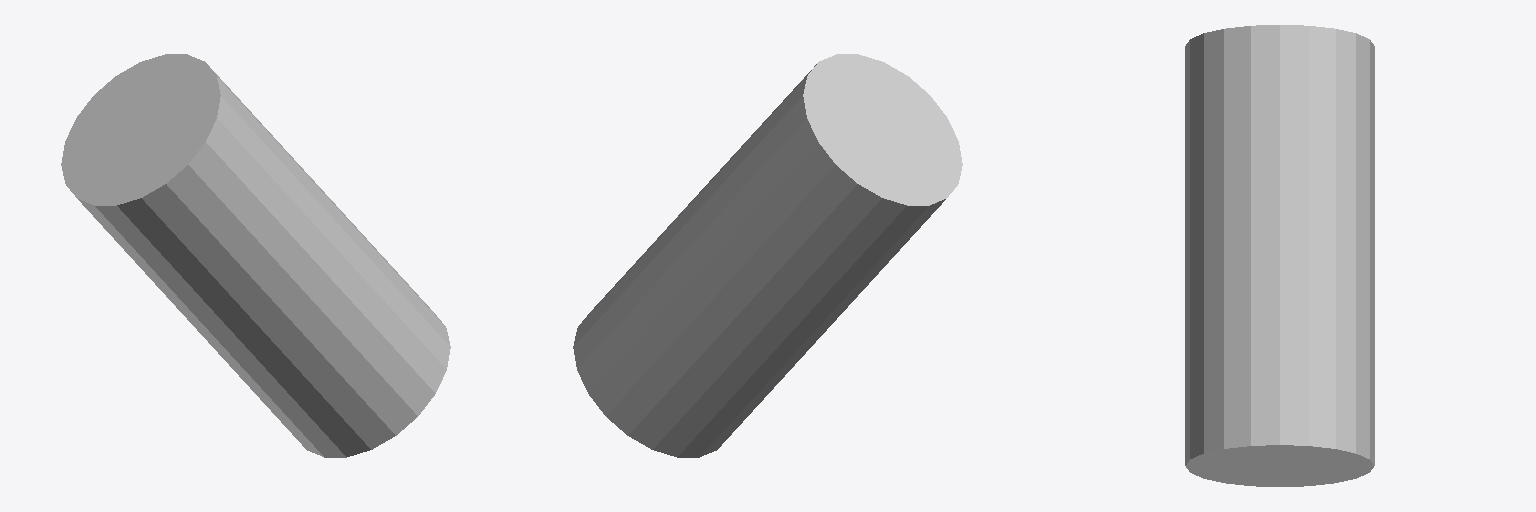
The model's file is player_Larm_up.obj.
The picture shows the model from 3 angles: view 1: azimuth 30°, elevation 25°; view 2: azimuth 150°, elevation 25°; view 3: azimuth 270°, elevation 25°; orthographic projection.
Visible parts, largest first — view 1: pCylinder4 group3; view 2: pCylinder4 group3; view 3: pCylinder4 group3.
Part boxes in pixels (x1,y1,x2,y2): pCylinder4 group3: (61,54,450,457); pCylinder4 group3: (573,54,962,457); pCylinder4 group3: (1185,25,1374,486).
Bounding box in the file's own units: 1.65 × 1.82 × 0.7551.